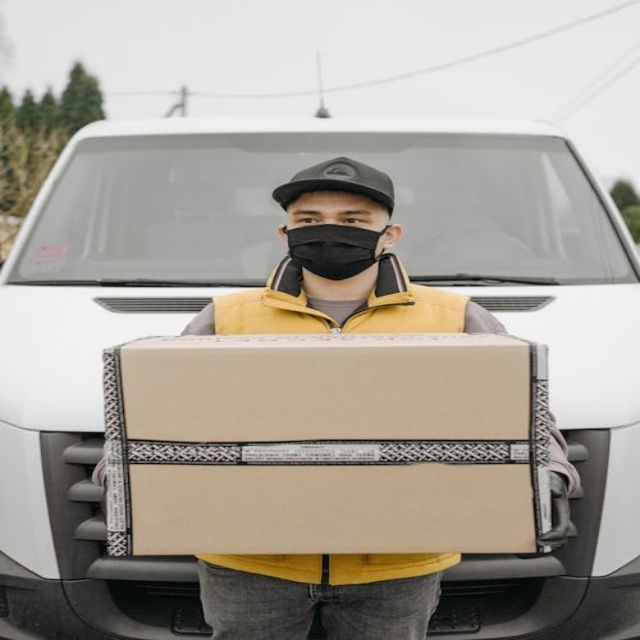Mascara: (284, 223, 389, 280)
Sin_gafas: (284, 203, 376, 223)
